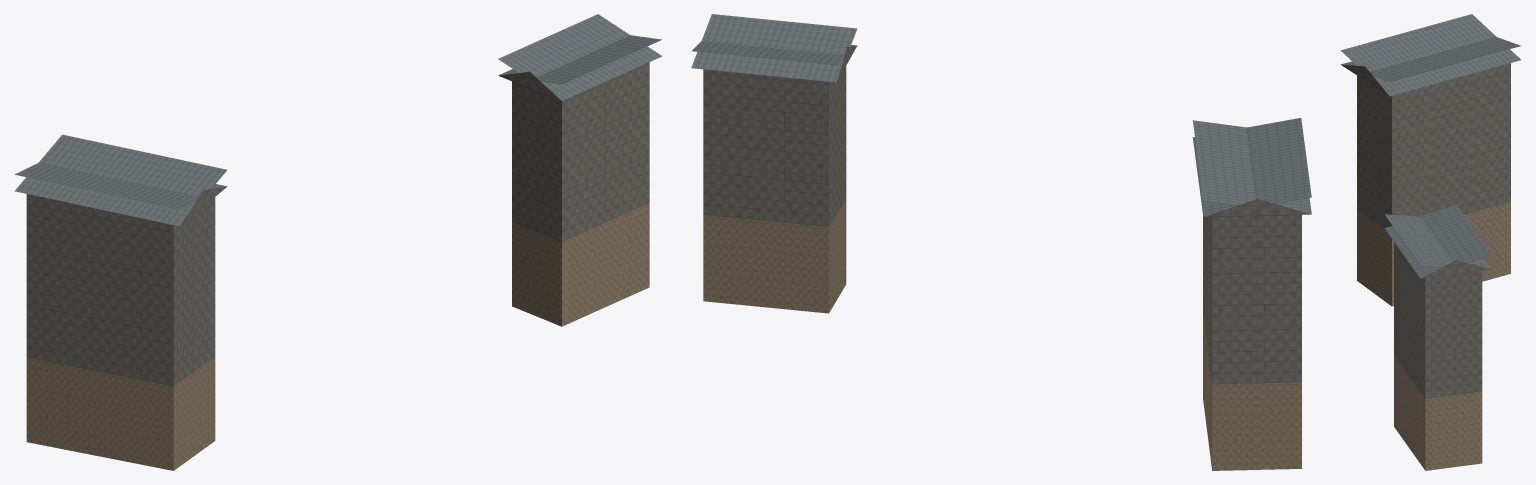
File: bld_c10_19_431.gltf
3 renders of one model, left to right at view 1: azimuth 30°, elevation 25°; view 2: azimuth 150°, elevation 25°; view 3: azimuth 270°, elevation 25°, orthographic. The views are drawn at different scales.
Visible parts, largest first — view 1: bld_c10_19_431; view 2: bld_c10_19_431; view 3: bld_c10_19_431.
Boxes of the visible parts, x1,y1,x2,y2 form: bld_c10_19_431: [14, 14, 661, 470]; bld_c10_19_431: [691, 14, 1311, 470]; bld_c10_19_431: [1340, 14, 1520, 470].
Size of the model in its own units: 38.9 by 16.6 by 11.63.
4 materials, 4 textured.
